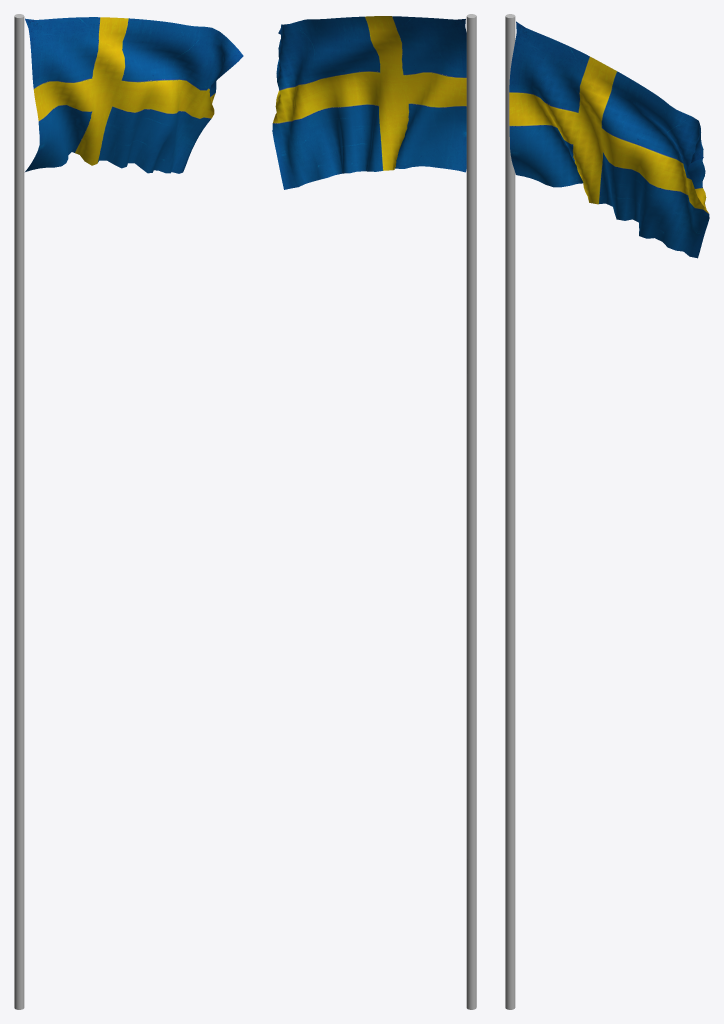
The model's file is Flag_Sweden.fbx.
3 views of the same model, side by side, from view 1: azimuth 30°, elevation 25°; view 2: azimuth 150°, elevation 25°; view 3: azimuth 330°, elevation 25° (orthographic).
Parts seen in each view (by area): view 1: Sweden_Front, Pole, Sweden_Back; view 2: Sweden_Front, Pole, Sweden_Back; view 3: Sweden_Front, Pole, Sweden_Back.
Part boxes in pixels (box(x1,y1,x2,y2)): Sweden_Front: box(25, 17, 243, 173); Pole: box(14, 14, 24, 1009); Sweden_Back: box(25, 17, 242, 172); Sweden_Front: box(272, 16, 466, 189); Pole: box(466, 14, 476, 1009); Sweden_Back: box(273, 16, 466, 187); Sweden_Front: box(509, 21, 709, 258); Pole: box(505, 14, 515, 1009); Sweden_Back: box(509, 22, 707, 257).
Bounding box in the file's own units: 206 × 914 × 47.48.
